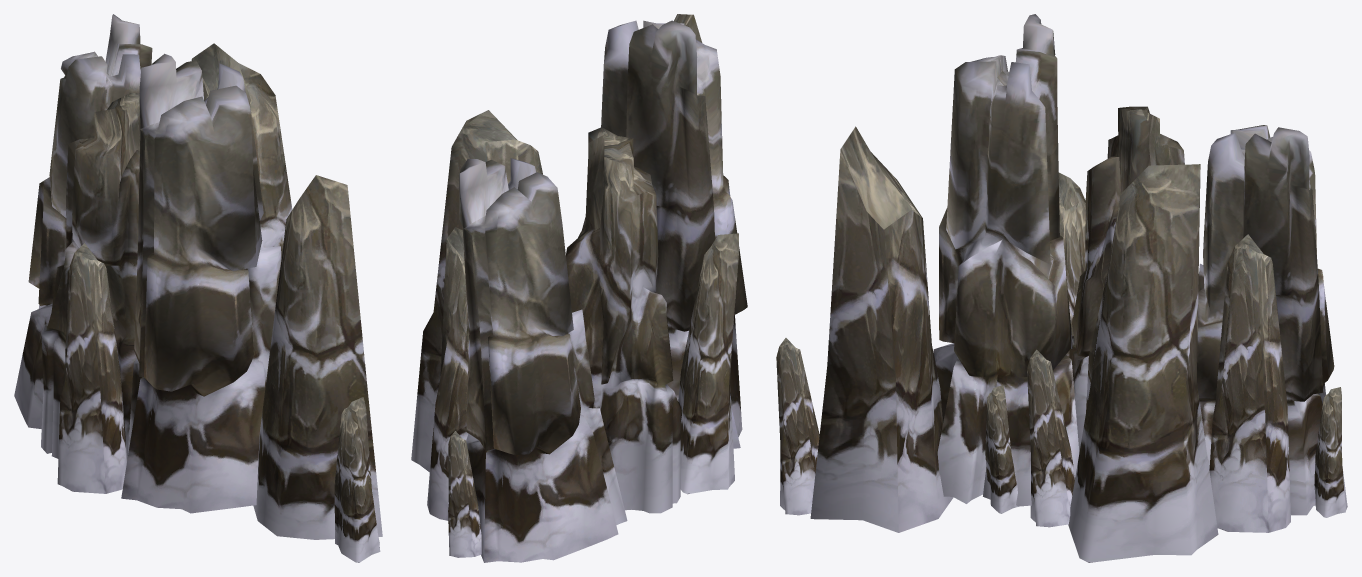
The model's file is borean_rocklarge_02_snowy.obj.
3 views of the same model, side by side, from view 1: azimuth 30°, elevation 25°; view 2: azimuth 150°, elevation 25°; view 3: azimuth 270°, elevation 25° (orthographic). The views are drawn at different scales.
Visible parts, largest first — view 1: Geoset0, Geoset1; view 2: Geoset1, Geoset0; view 3: Geoset0, Geoset1.
Boxes of the visible parts, left/top/right/bottom form: Geoset0: left=41, top=43, right=382, bottom=562; Geoset1: left=14, top=14, right=281, bottom=513; Geoset1: left=459, top=20, right=747, bottom=562; Geoset0: left=411, top=14, right=738, bottom=557; Geoset0: left=776, top=106, right=1347, bottom=562; Geoset1: left=933, top=14, right=1334, bottom=515.
Bounding box in the file's own units: 10.21 × 15.19 × 17.29.
2 materials, 2 textured.
